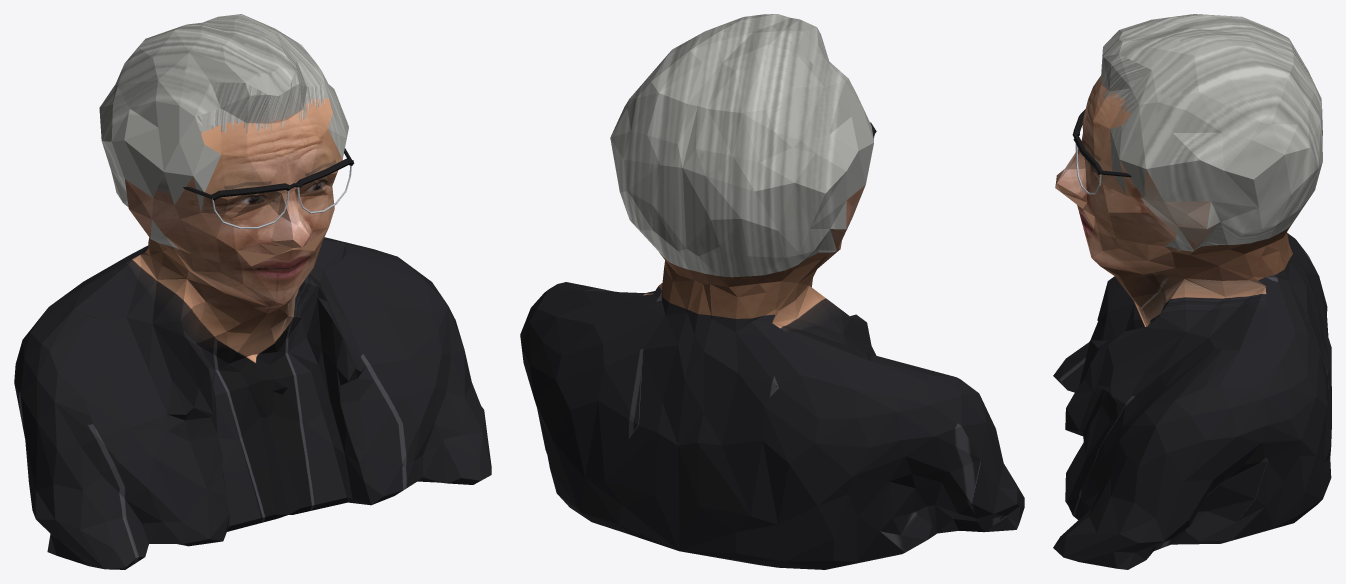
Rendered from jensen_smile.glb.
3 renders of one model, left to right at view 1: azimuth 30°, elevation 25°; view 2: azimuth 150°, elevation 25°; view 3: azimuth 270°, elevation 25°, orthographic. The views are drawn at different scales.
Parts seen in each view (by area): view 1: jensen_n64; view 2: jensen_n64; view 3: jensen_n64.
Boxes of the visible parts, x1,y1,x2,y2 form: jensen_n64: (14,14,491,569); jensen_n64: (520,14,1024,569); jensen_n64: (1053,14,1331,569).
Size of the model in its own units: 2.31 by 2.2 by 1.26.
Materials: 3 (1 with a texture image).
